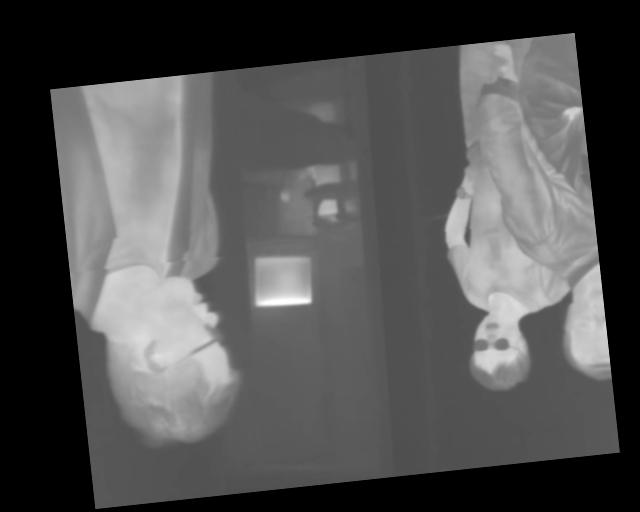face: (465, 310, 532, 394)
